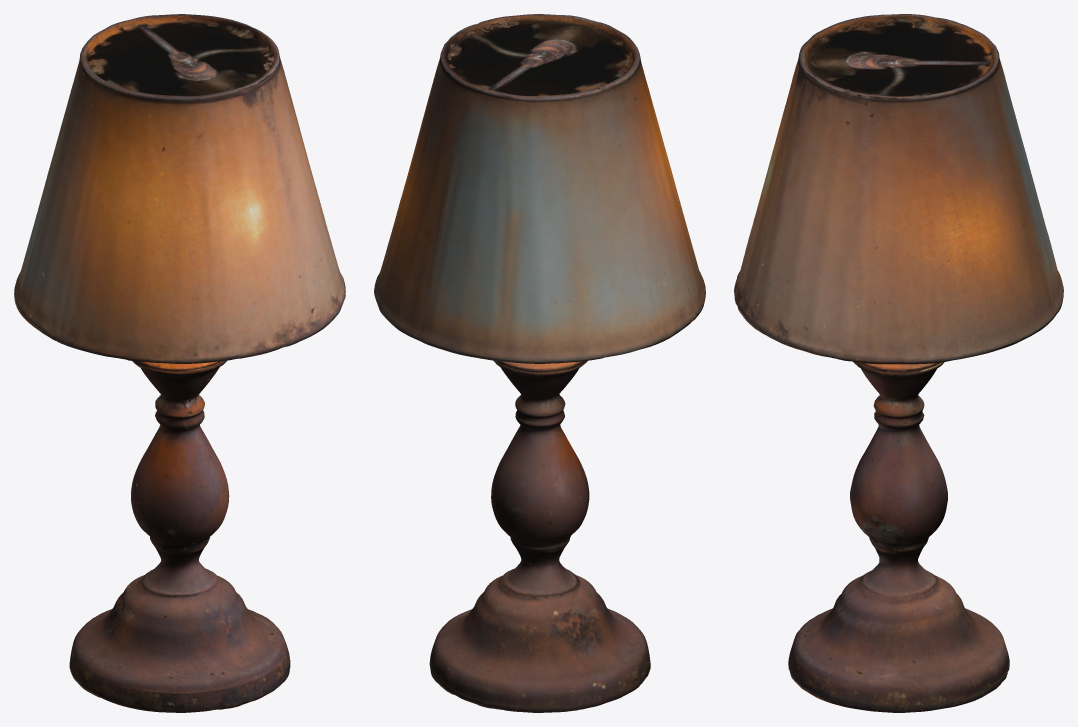
File: old_rusty_table_lamp_0429214836_refine.fbx
The picture shows the model from 3 angles, left to right: view 1: azimuth 30°, elevation 25°; view 2: azimuth 150°, elevation 25°; view 3: azimuth 270°, elevation 25°; orthographic projection.
Visible parts, largest first — view 1: Mesh1; view 2: Mesh1; view 3: Mesh1.
Part boxes in pixels (left/top/right/bottom): Mesh1: left=14, top=14, right=345, bottom=712; Mesh1: left=374, top=14, right=705, bottom=712; Mesh1: left=734, top=14, right=1063, bottom=712.
Bounding box in the file's own units: 98.26 × 201 × 97.99.
1 material, 1 textured.
